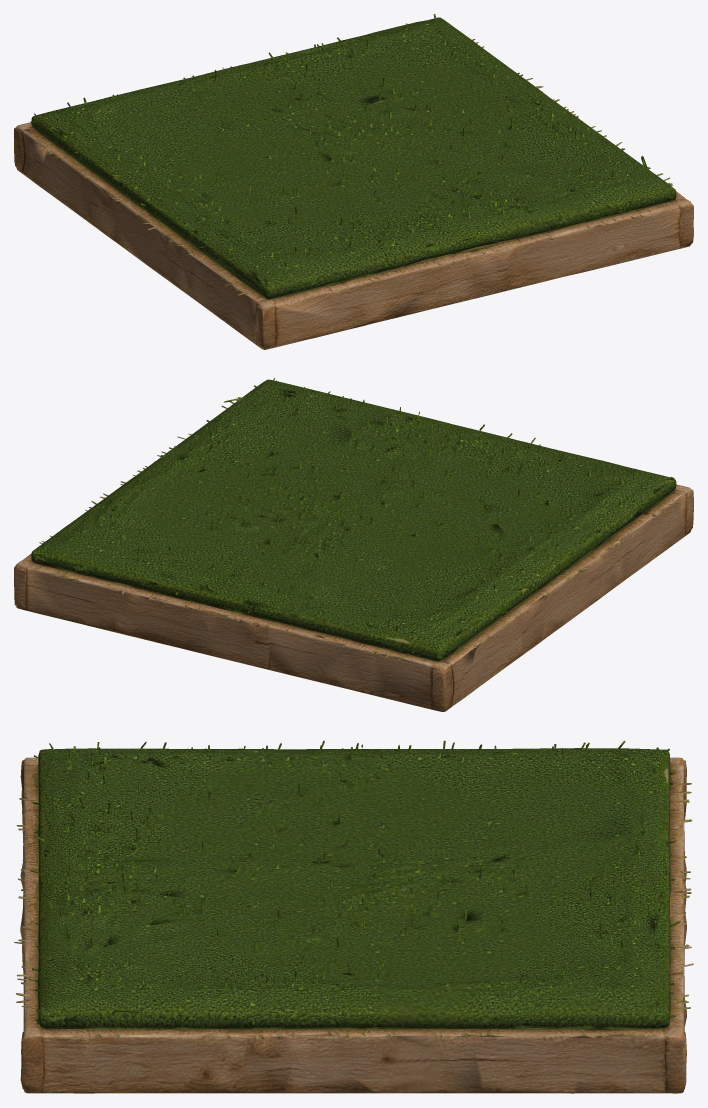
The model's file is pnl_lawn.glb.
3 renders of one model, top to bottom at view 1: azimuth 30°, elevation 25°; view 2: azimuth 150°, elevation 25°; view 3: azimuth 270°, elevation 25°, orthographic. The views are drawn at different scales.
Visible parts, largest first — view 1: tripo_node_a798ef68-236f-4c10-99d6-54520b6235b9; view 2: tripo_node_a798ef68-236f-4c10-99d6-54520b6235b9; view 3: tripo_node_a798ef68-236f-4c10-99d6-54520b6235b9.
Part boxes in pixels (x1,y1,x2,y2): tripo_node_a798ef68-236f-4c10-99d6-54520b6235b9: (14,14,693,349); tripo_node_a798ef68-236f-4c10-99d6-54520b6235b9: (14,378,693,711); tripo_node_a798ef68-236f-4c10-99d6-54520b6235b9: (14,740,693,1093).
Bounding box in the file's own units: 1.31 × 0.2 × 1.31.
Materials: 1 (1 with a texture image).
